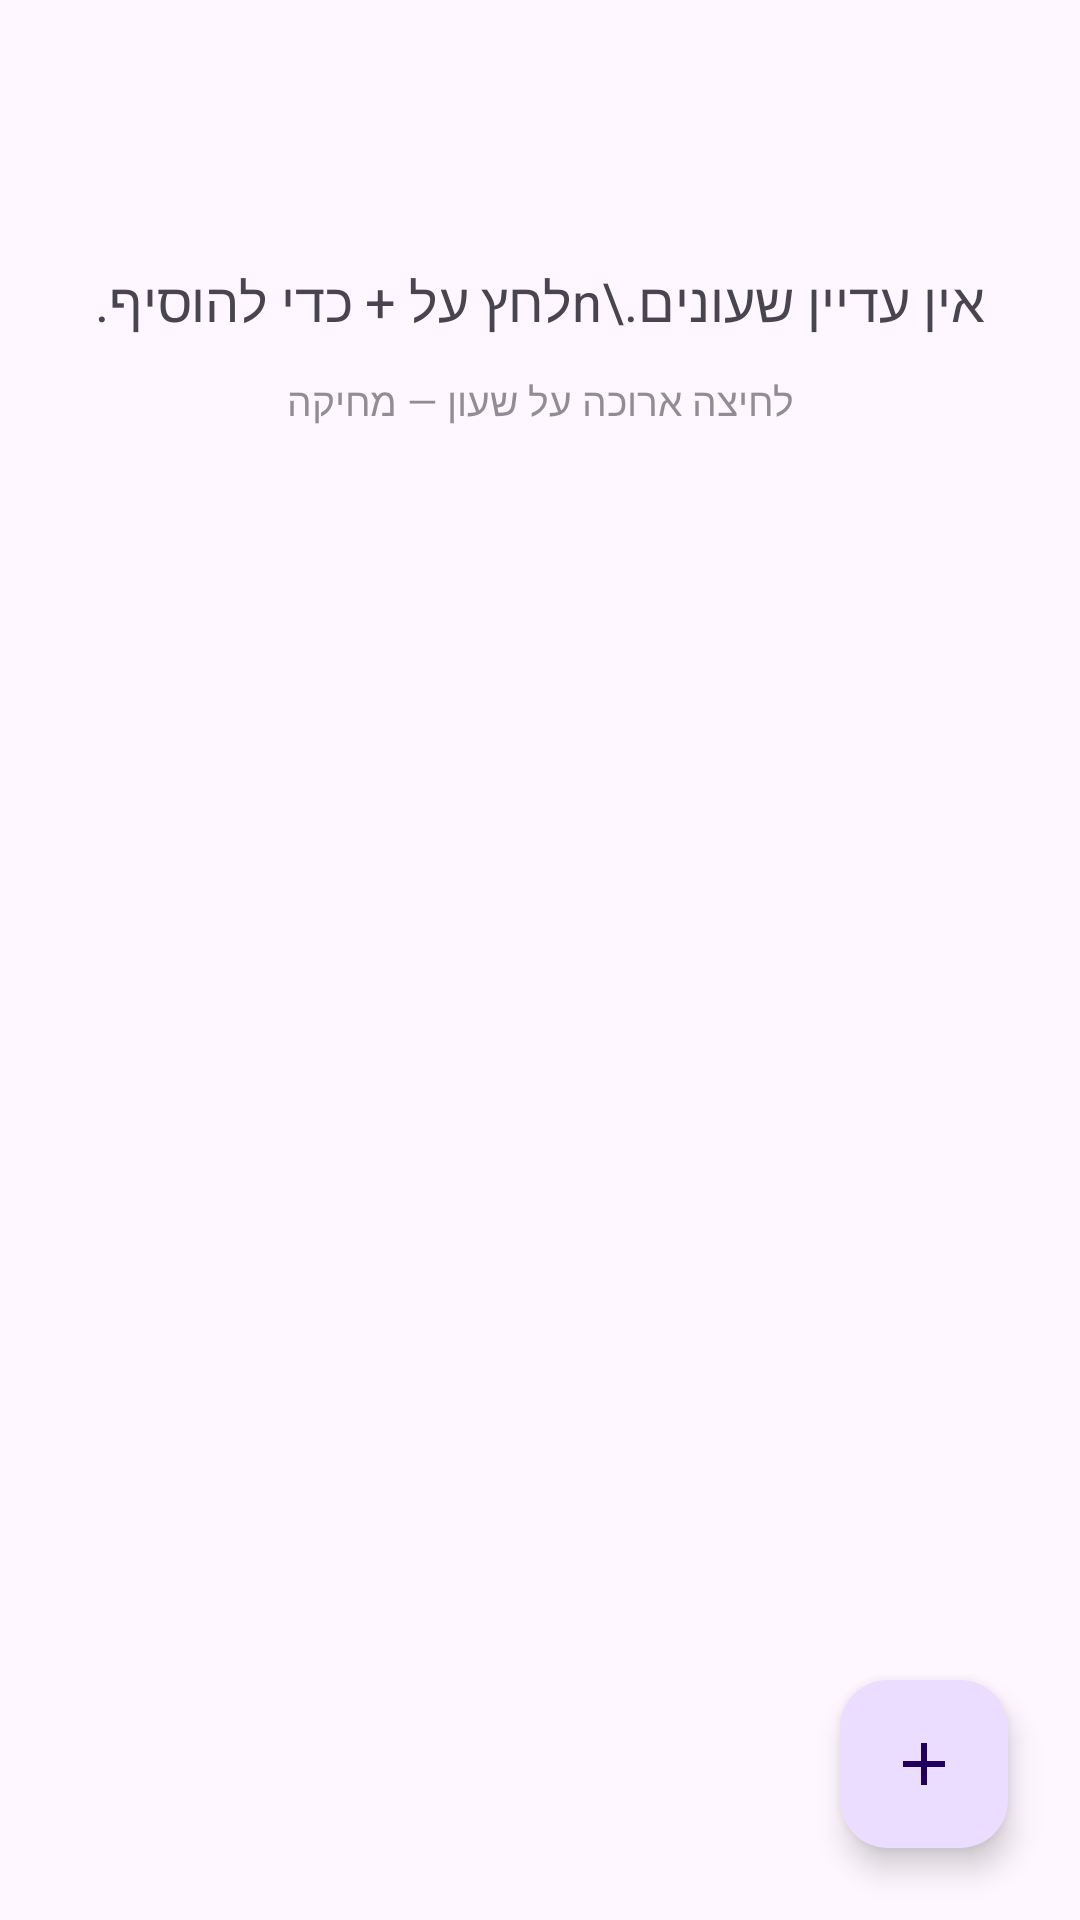

Named icons in this screenshot (1080×1920) and their bounding boxes, (x1,y1,x2,y2):
הוספת שעון: (840,1680,1008,1848)
